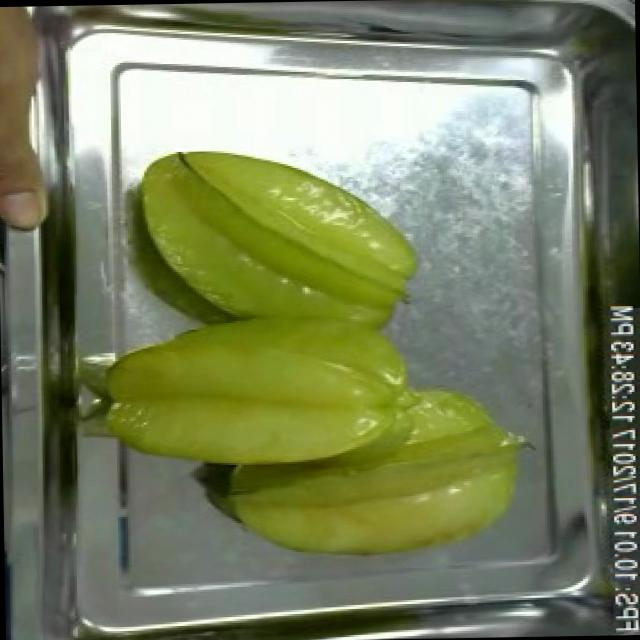fruit: (86, 128, 434, 484), (200, 378, 544, 574), (0, 4, 65, 235)
